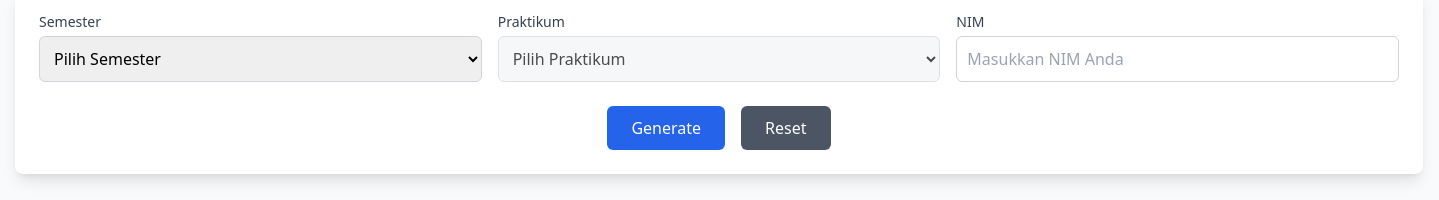
Scenario: Form Component › handles reset functionality
In the field labelled "NIM": (1178, 59) [956,36,1399,82], type "12345"
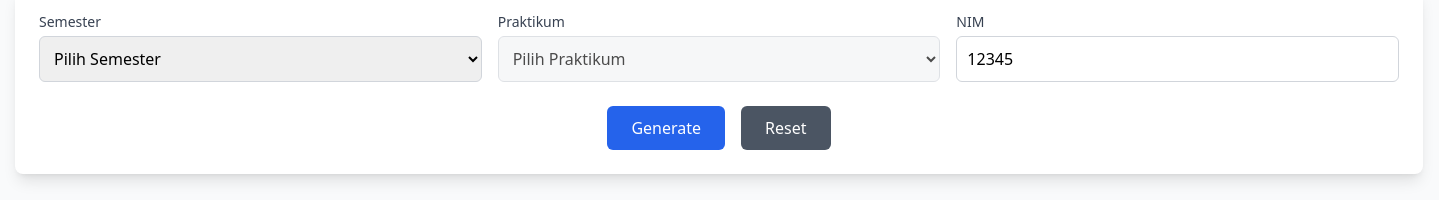
Click the button "Reset": (786, 128) [741,106,831,150]
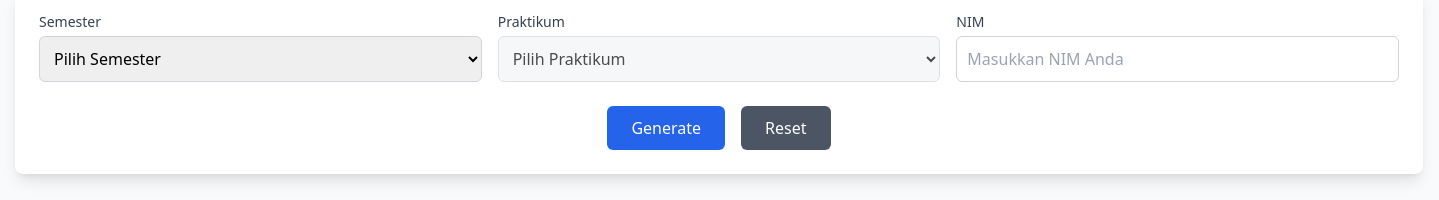
Expected: the field labelled "NIM" is empty, [956,36,1399,82]
